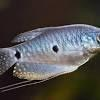Gourami: (0, 23, 100, 94)
